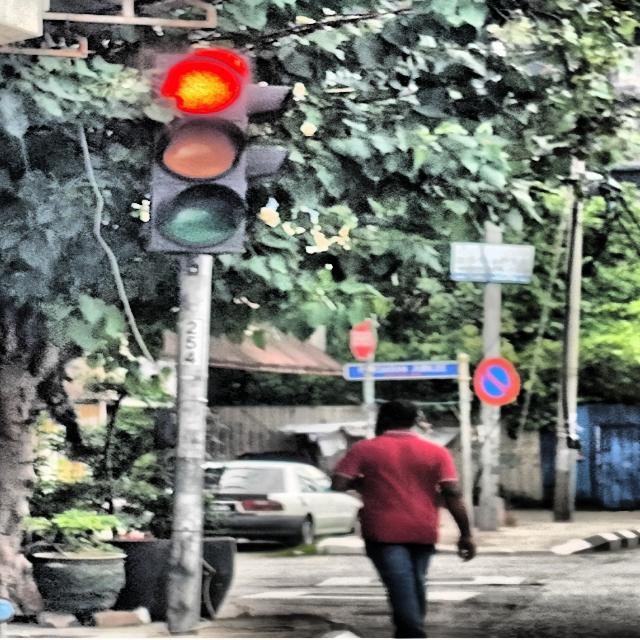red: (150, 49, 249, 255)
